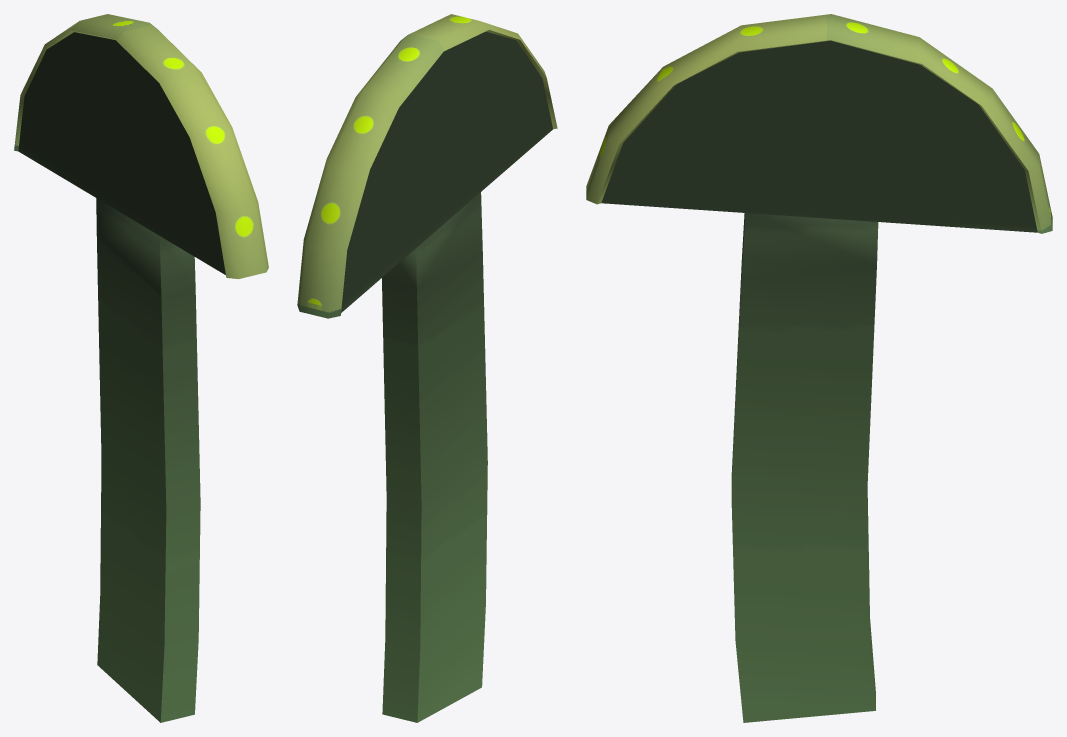
The model's file is SM_I_Lime_new.fbx.
3 renders of one model, left to right at view 1: azimuth 30°, elevation 25°; view 2: azimuth 150°, elevation 25°; view 3: azimuth 270°, elevation 25°, orthographic. The views are drawn at different scales.
Visible parts, largest first — view 1: Sphere; view 2: Sphere; view 3: Sphere.
Part boxes in pixels (bbox=[...]): Sphere: bbox=[14, 14, 268, 722]; Sphere: bbox=[297, 14, 557, 722]; Sphere: bbox=[586, 14, 1052, 722].
Bounding box in the file's own units: 3 × 44.59 × 27.17.
